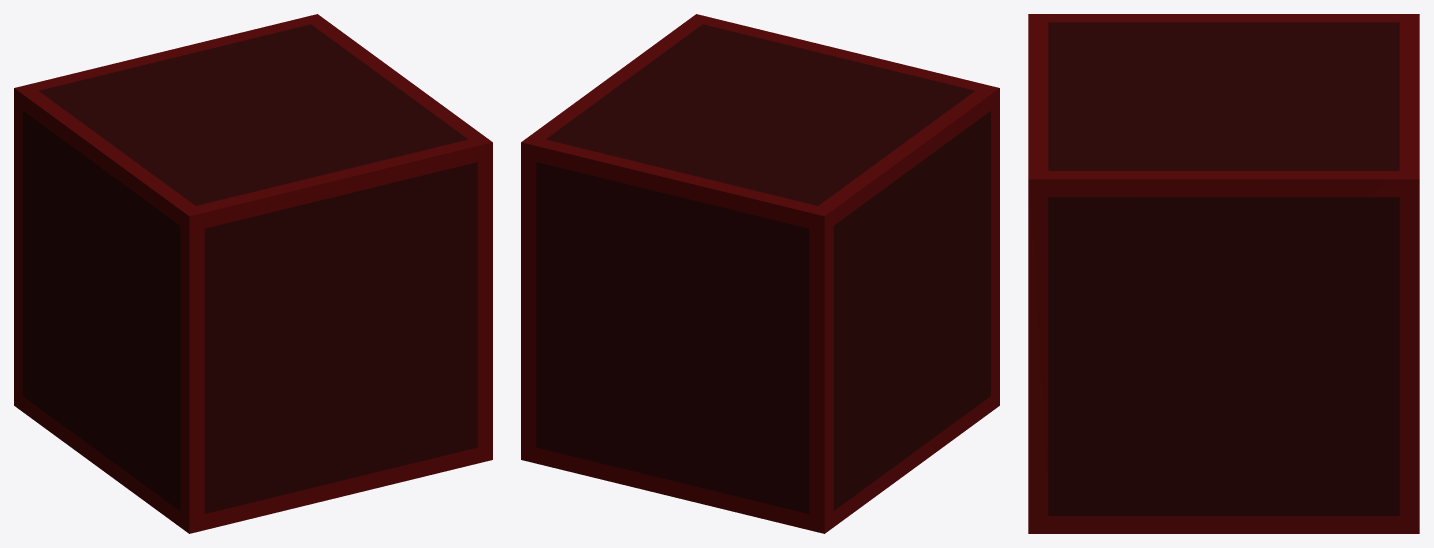
The model's file is tile_RED_dark.glb.
3 renders of one model, left to right at view 1: azimuth 30°, elevation 25°; view 2: azimuth 150°, elevation 25°; view 3: azimuth 270°, elevation 25°, orthographic. The views are drawn at different scales.
Visible parts, largest first — view 1: tile_red_dark; view 2: tile_red_dark; view 3: tile_red_dark.
Part boxes in pixels (bbox=[...]): tile_red_dark: bbox=[14, 14, 492, 533]; tile_red_dark: bbox=[521, 14, 999, 533]; tile_red_dark: bbox=[1028, 14, 1419, 533].
Bounding box in the file's own units: 2 × 2 × 2.
